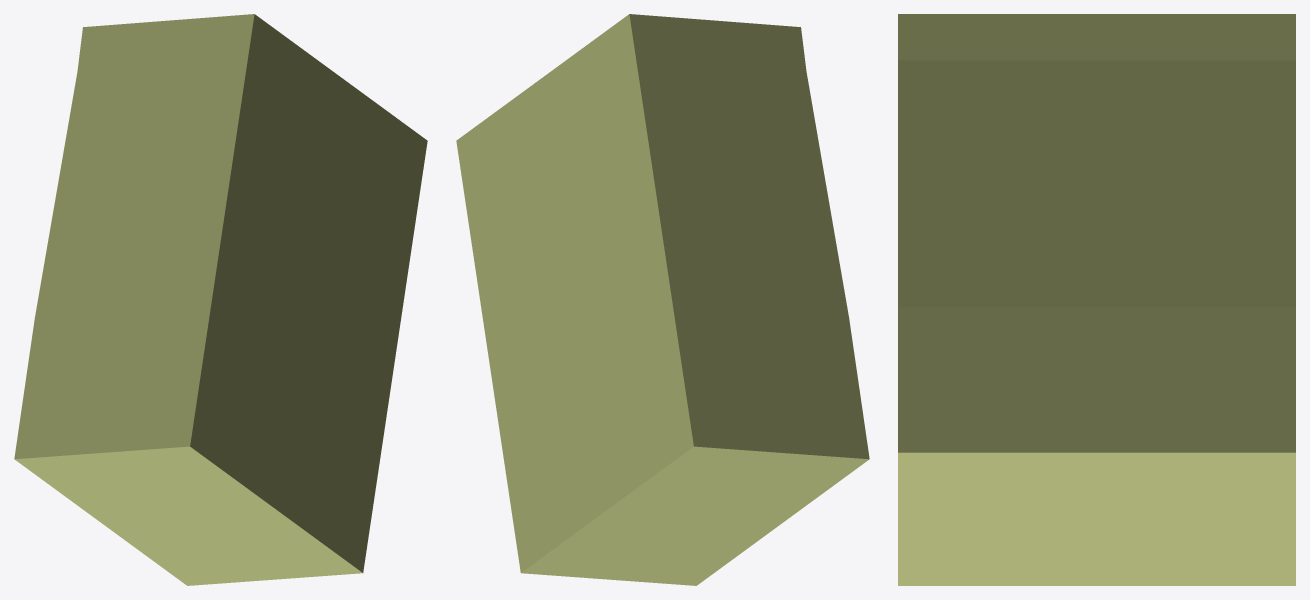
3 renders of one model, left to right at view 1: azimuth 30°, elevation 25°; view 2: azimuth 150°, elevation 25°; view 3: azimuth 270°, elevation 25°, orthographic. The views are drawn at different scales.
Visible parts, largest first — view 1: 0_1_2_0_0_2_3_1_2_3_1; view 2: 0_1_2_0_0_2_3_1_2_3_1; view 3: 0_1_2_0_0_2_3_1_2_3_1.
Part boxes in pixels (x1,y1,x2,y2): 0_1_2_0_0_2_3_1_2_3_1: (14,14,427,585); 0_1_2_0_0_2_3_1_2_3_1: (456,14,869,585); 0_1_2_0_0_2_3_1_2_3_1: (898,14,1295,585).
Bounding box in the file's own units: 4.81 × 8.52 × 6.
